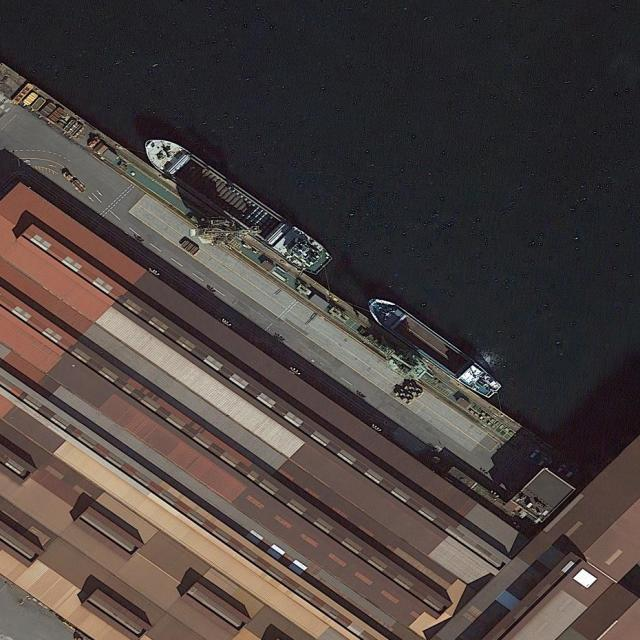Cargo: (136, 125, 338, 284), (361, 287, 506, 405)
